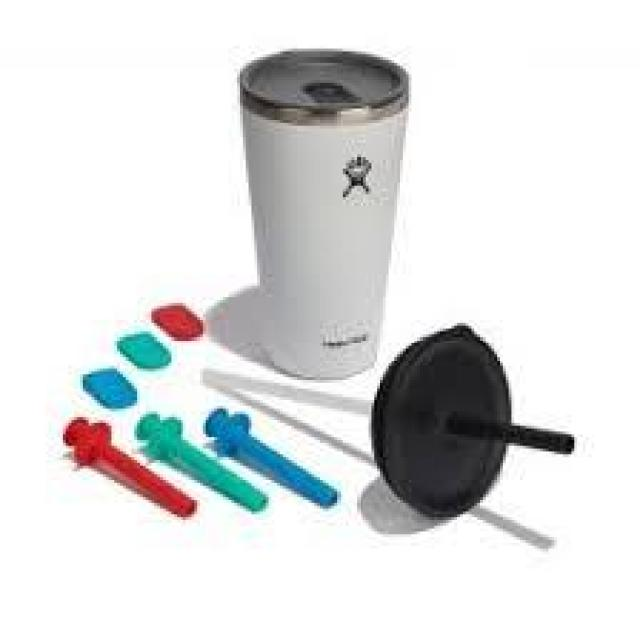bottle: (239, 46, 410, 386)
